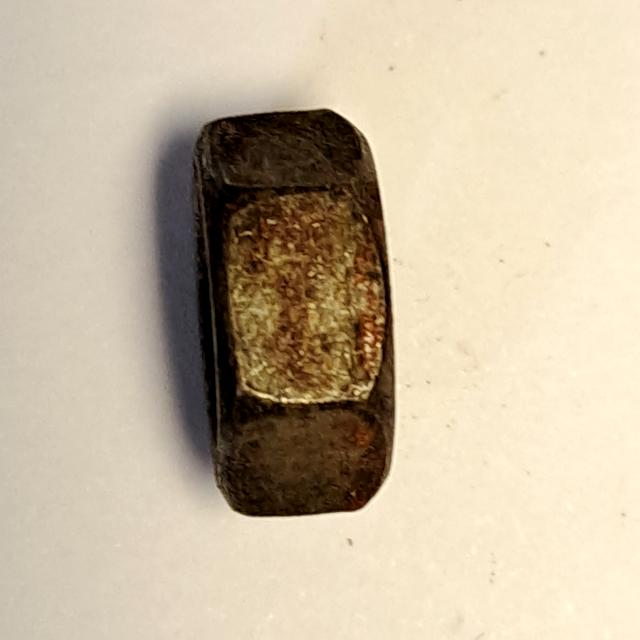Side_Rust: (179, 100, 419, 533)
